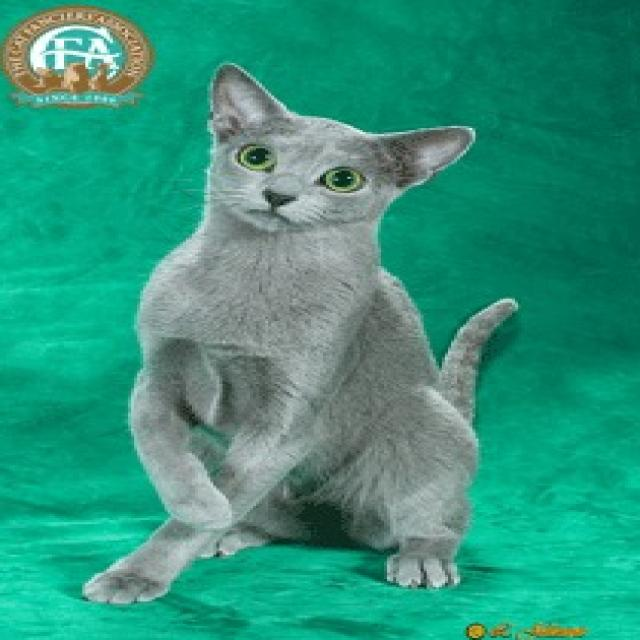Russian Blue: (51, 56, 526, 602)
